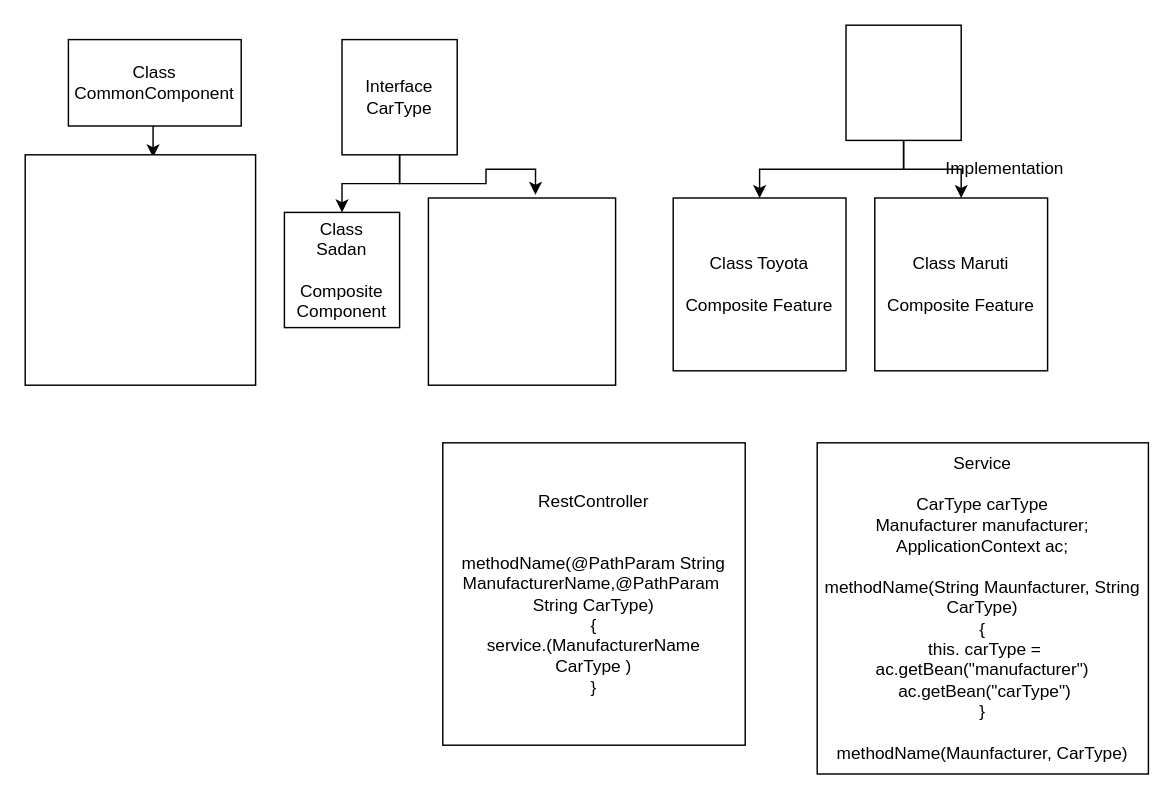
Image size: 1174x799. Some labels were removed from this diagram. The centre of each missing label's shape, as x and y in pixels:
"Class SUV Composite Component CommonComponentBuilder" goes at [521,291].
"CommonComponentBuilder getCommonComponent" goes at [140,269].
"Interface Manufacturer" goes at [903,82].
